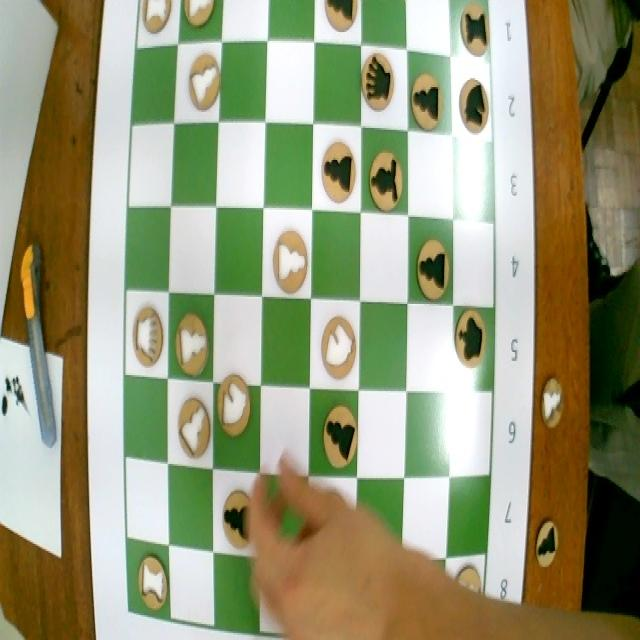chess-pieces: (455, 70, 502, 154), (315, 127, 360, 212), (216, 366, 262, 448), (406, 60, 452, 141), (409, 223, 451, 303), (171, 390, 213, 465), (216, 482, 258, 554), (269, 227, 311, 299), (324, 401, 364, 472), (173, 309, 211, 381), (184, 46, 226, 110), (319, 310, 356, 382), (367, 141, 405, 209), (132, 299, 166, 371), (360, 51, 397, 116), (451, 312, 489, 375), (454, 0, 492, 60), (135, 552, 170, 615), (320, 0, 364, 41), (140, 0, 175, 41), (183, 0, 218, 39)
